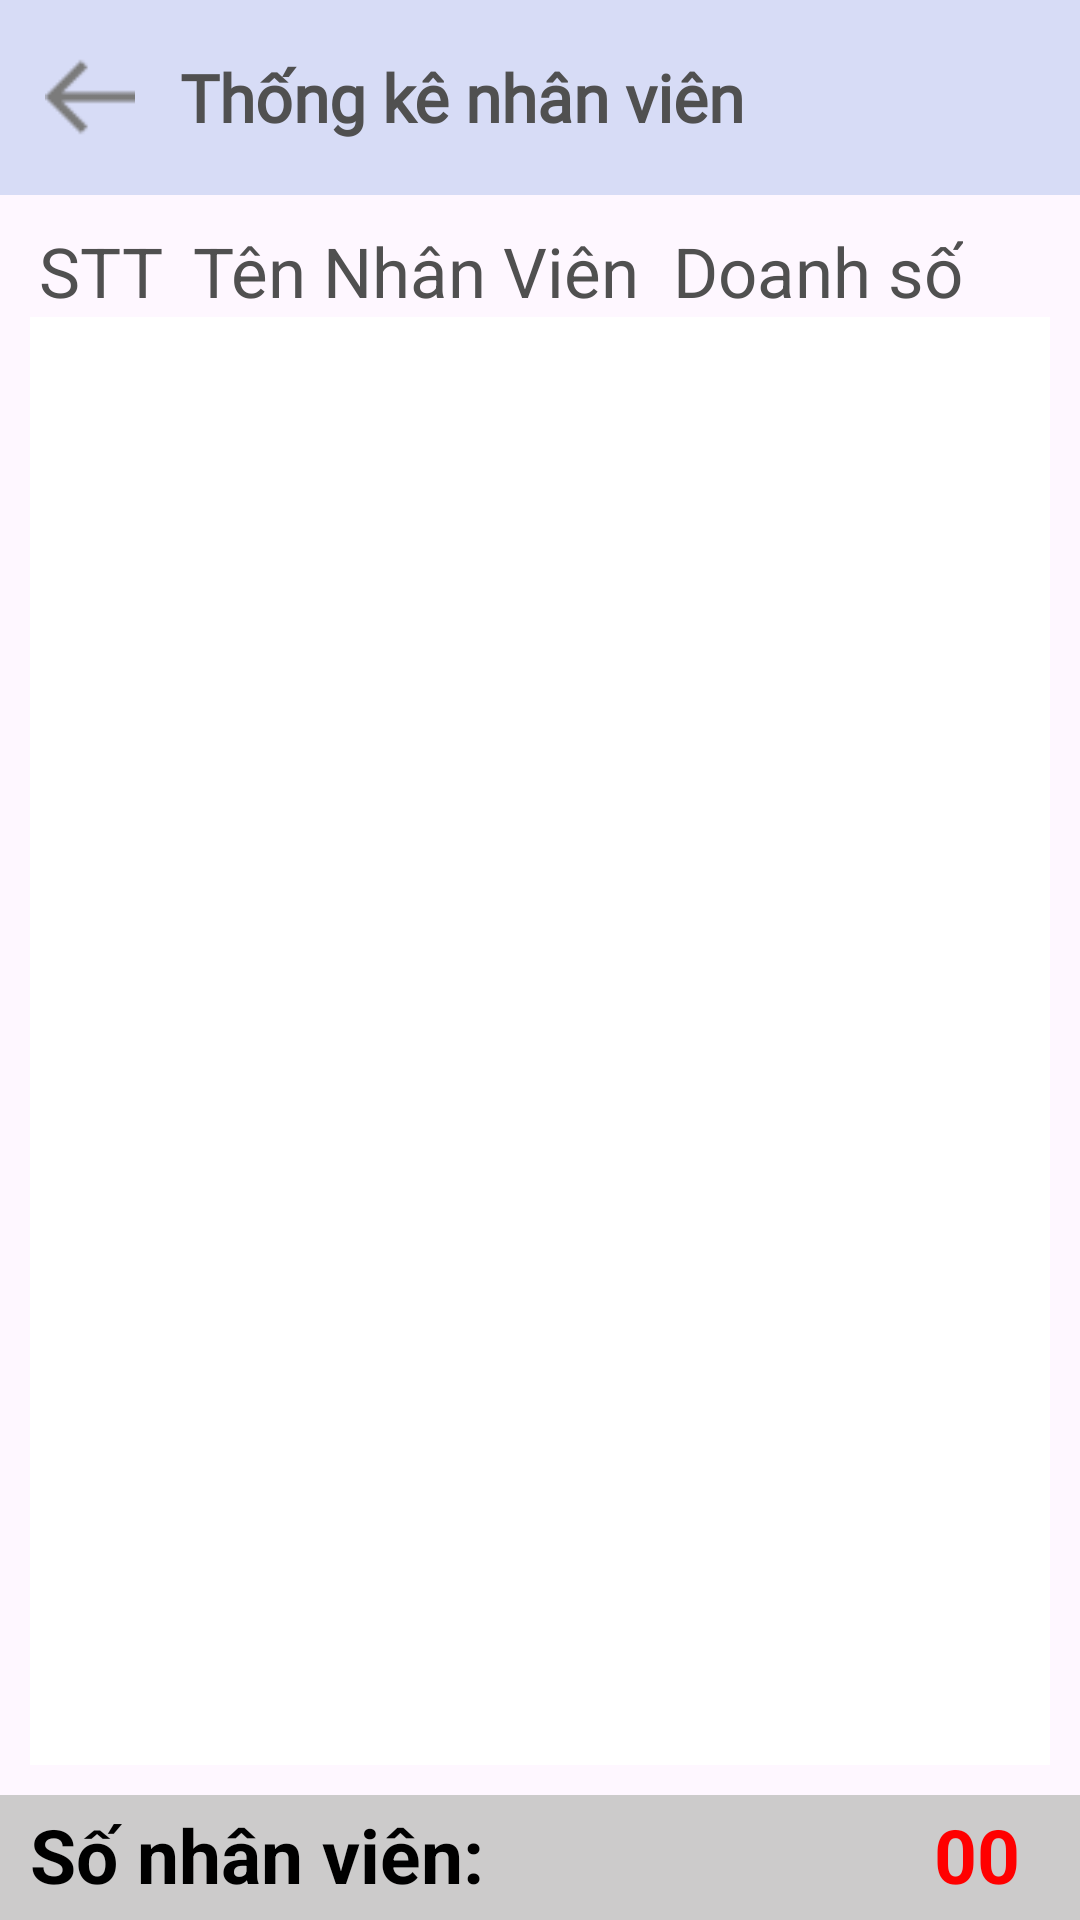

Icon click points for this 1080*1920 phone screenshot, format point (x, y):
leftarrow: point (90, 97)
